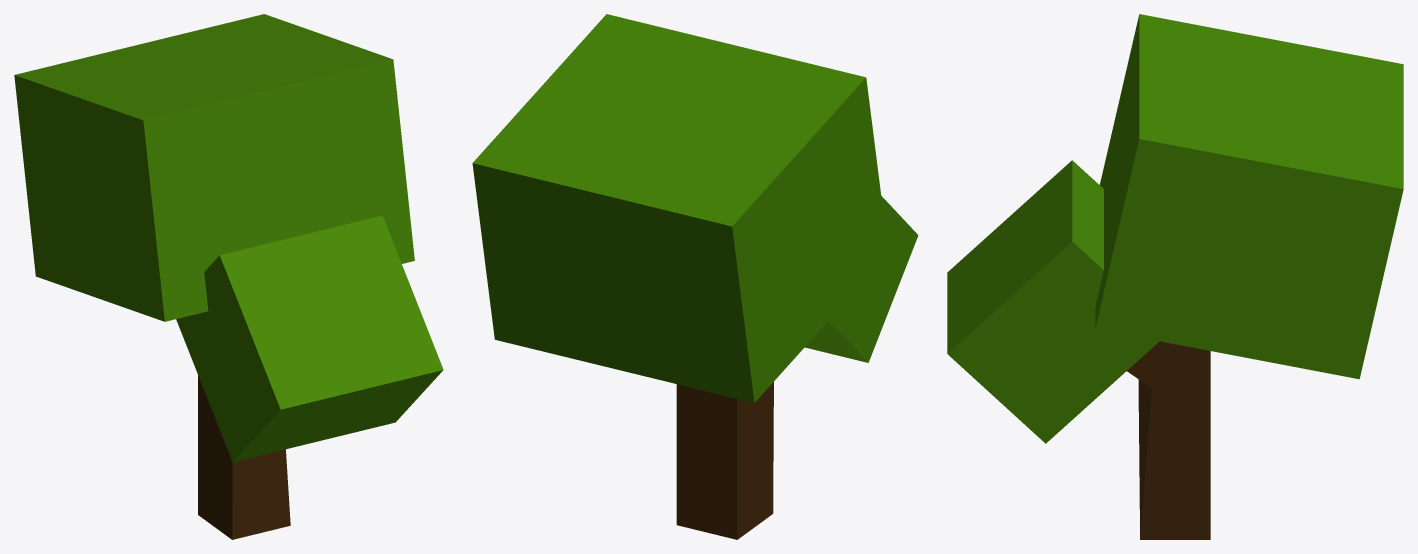
The model's file is tree3.fbx.
The picture shows the model from 3 angles, left to right: view 1: azimuth 30°, elevation 25°; view 2: azimuth 150°, elevation 25°; view 3: azimuth 270°, elevation 25°; orthographic projection. The views are drawn at different scales.
Parts seen in each view (by area): view 1: leves tree 3, trunk tree 3; view 2: leves tree 3, trunk tree 3; view 3: leves tree 3, trunk tree 3.
Part boxes in pixels (<box>): leves tree 3: <box>14,14,443,461</box>; trunk tree 3: <box>198,375,290,539</box>; leves tree 3: <box>472,14,918,402</box>; trunk tree 3: <box>676,382,773,539</box>; leves tree 3: <box>947,14,1403,443</box>; trunk tree 3: <box>1127,341,1210,539</box>.
Size of the model in its own units: 405 by 684 by 625.
